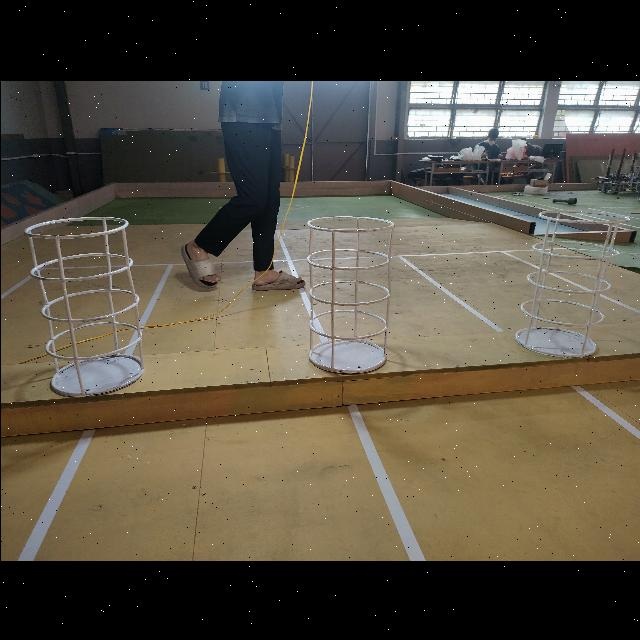S: (23, 212, 149, 394), (512, 204, 634, 360), (302, 212, 398, 374)
